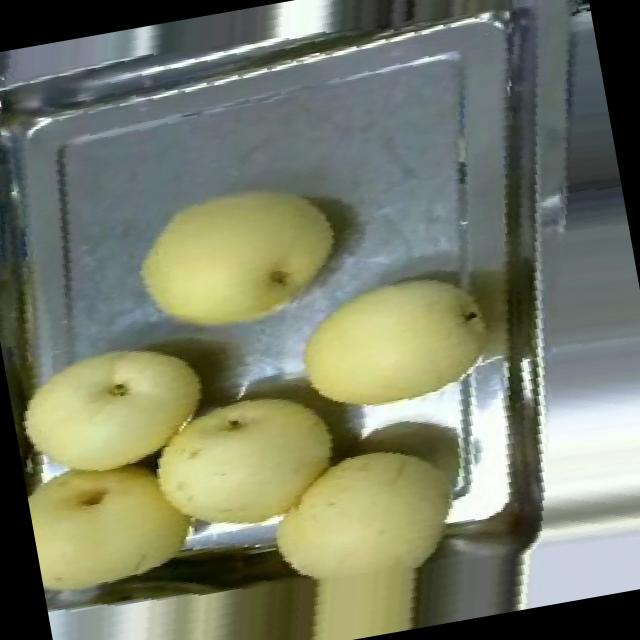Fruit: (234, 407, 495, 640), (119, 357, 371, 573), (268, 243, 511, 452), (112, 160, 360, 358), (0, 314, 226, 498)
